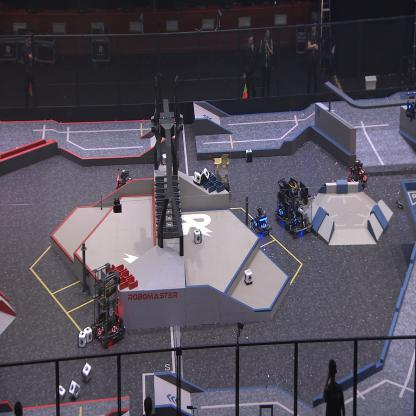car: (90, 262, 126, 346), (285, 177, 313, 236), (273, 176, 299, 226), (210, 154, 233, 200), (248, 206, 272, 236), (348, 157, 368, 190), (116, 169, 133, 195)
